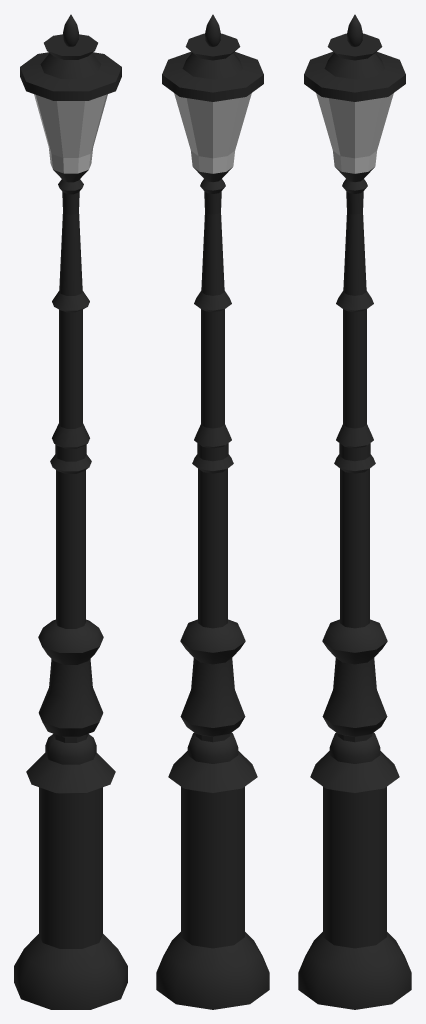
The model's file is streetlight.FBX.
3 renders of one model, left to right at view 1: azimuth 90°, elevation 25°; view 2: azimuth 150°, elevation 25°; view 3: azimuth 270°, elevation 25°, orthographic.
Visible parts, largest first — view 1: Cylinder001; view 2: Cylinder001; view 3: Cylinder001.
Boxes of the visible parts, box(x1,y1,x2,y2) form: Cylinder001: box(14, 14, 127, 1009); Cylinder001: box(156, 14, 269, 1009); Cylinder001: box(298, 14, 411, 1009).
Size of the model in its own units: 3.93 by 37.67 by 3.99.
